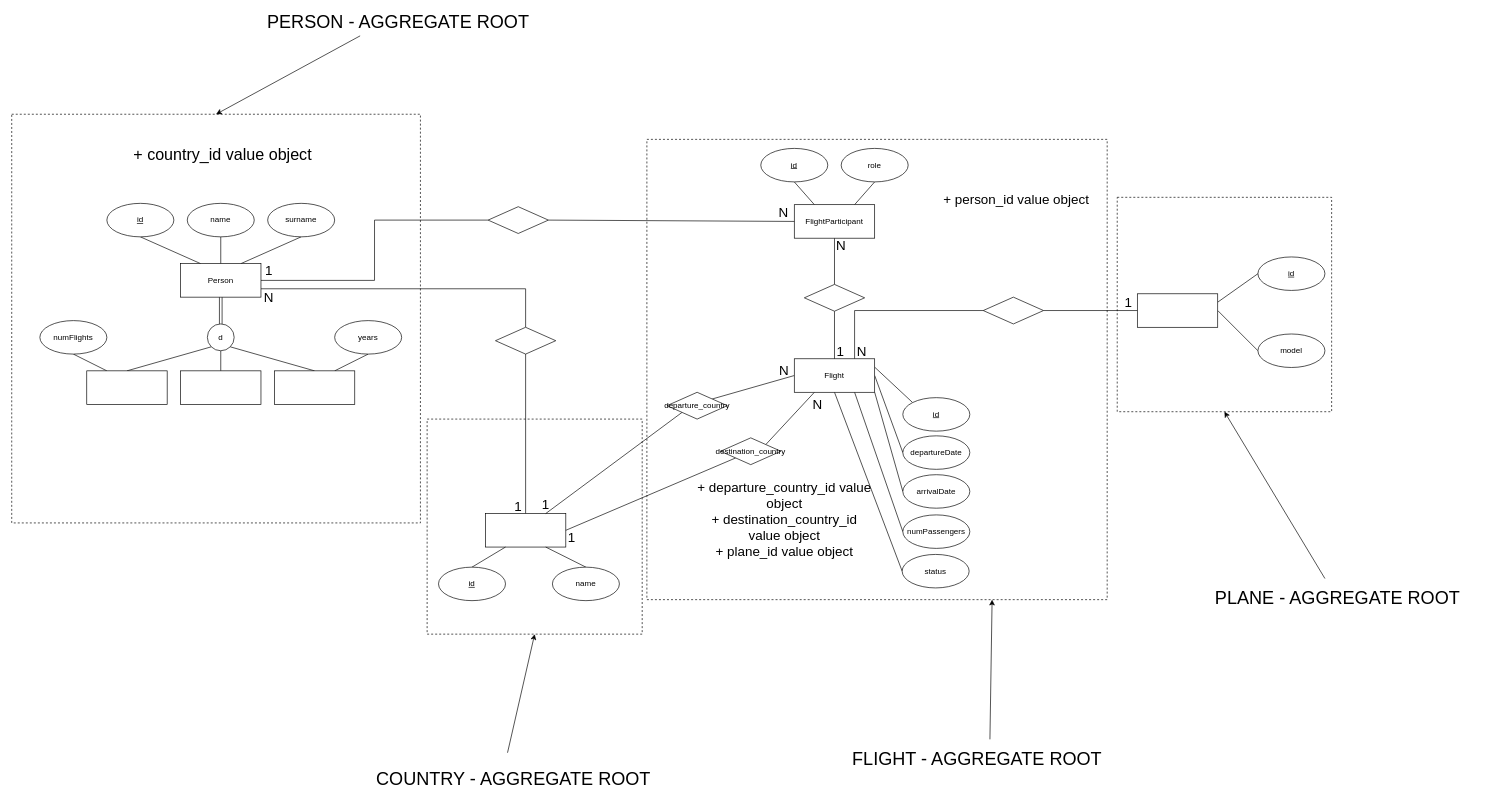
This 1510x801 diagram has some shape labels left out. The shapes that lost their labels are listed below. From the top down, each one's centre as x and y in pixels, then its label:
point 517,219: corresponds_to
point 834,297: attendance
point 1013,310: usage
point 1177,310: Plane
point 525,340: place_of_birth
point 126,387: FlightAttendant
point 220,387: Passenger
point 314,387: Pilot
point 525,530: Country
